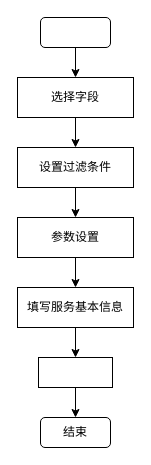
Image size: 151x465. Some labels were removed from this diagram. The centre of each missing label's shape, as x and y in pixels:
"发布" belongs at (75,372).
"开始" belongs at (75,32).
